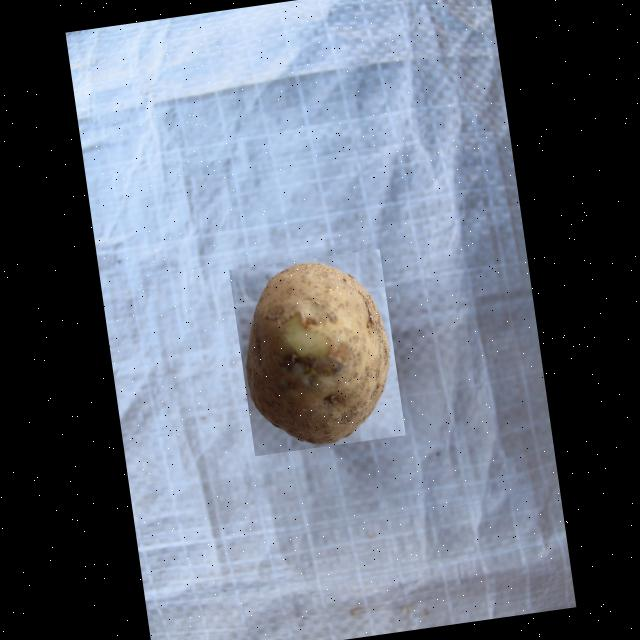Diseased-fungal potato: (228, 249, 405, 456)
